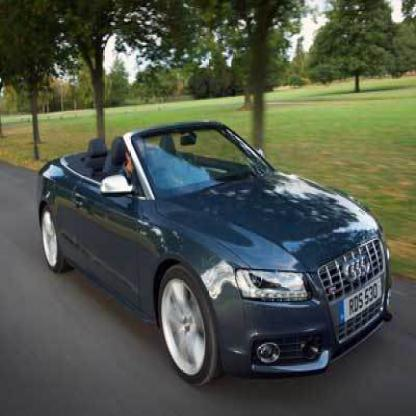Vehicle: (40, 124, 394, 390)
